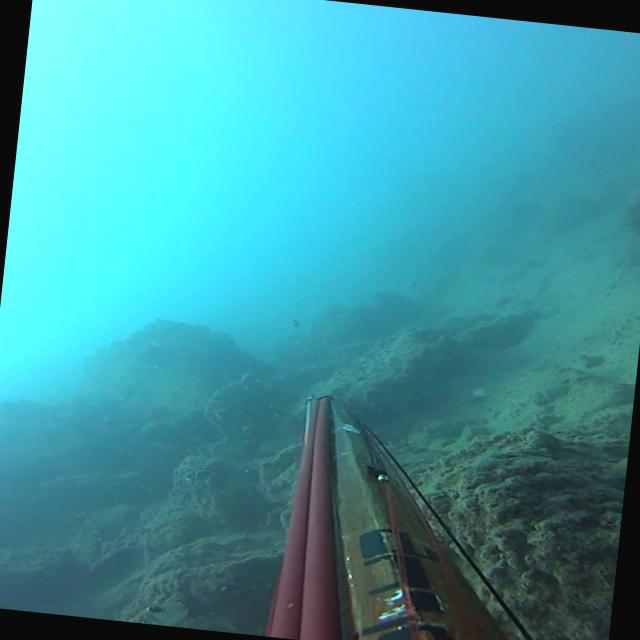Balon Baligi: (125, 596, 188, 628), (287, 318, 300, 326)
